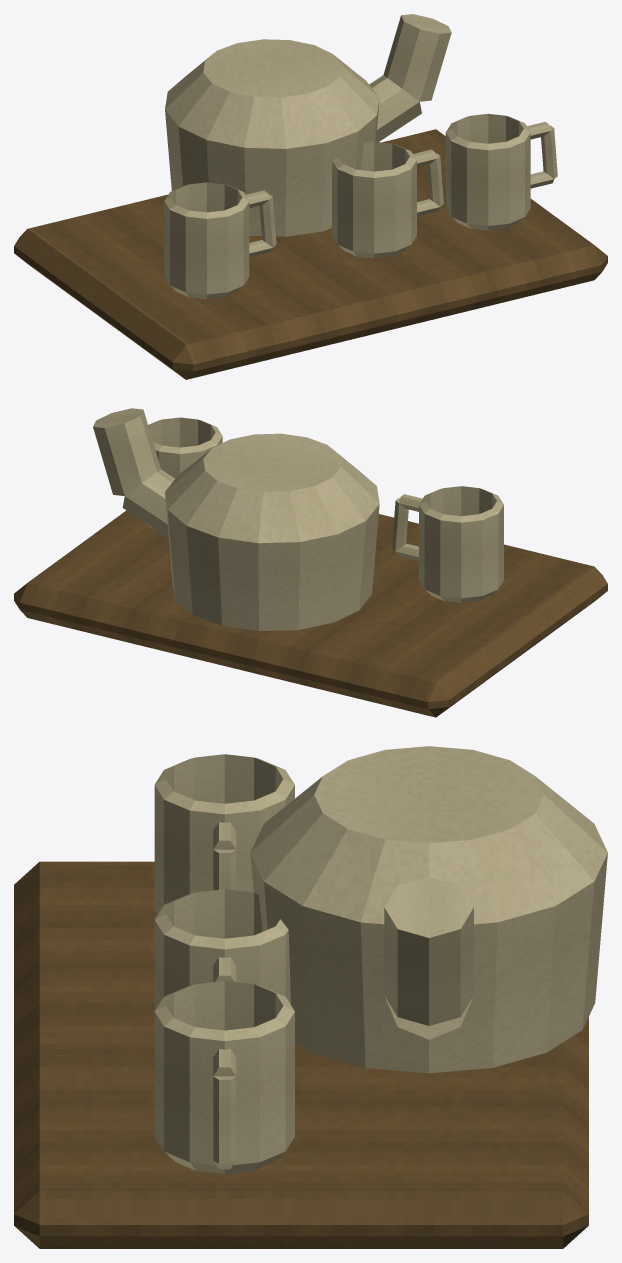
File: level_lived_kitchenware.glb
The picture shows the model from 3 angles, top to bottom: view 1: azimuth 30°, elevation 25°; view 2: azimuth 150°, elevation 25°; view 3: azimuth 270°, elevation 25°; orthographic projection. The views are drawn at different scales.
Visible parts, largest first — view 1: level_lived_kitchenware; view 2: level_lived_kitchenware; view 3: level_lived_kitchenware.
Boxes of the visible parts, box(x1,y1,x2,y2) form: level_lived_kitchenware: box(14, 14, 607, 379); level_lived_kitchenware: box(14, 408, 607, 717); level_lived_kitchenware: box(14, 746, 607, 1248).
Bounding box in the file's own units: 0.6563 × 0.2711 × 0.465.
2 materials, 2 textured.
